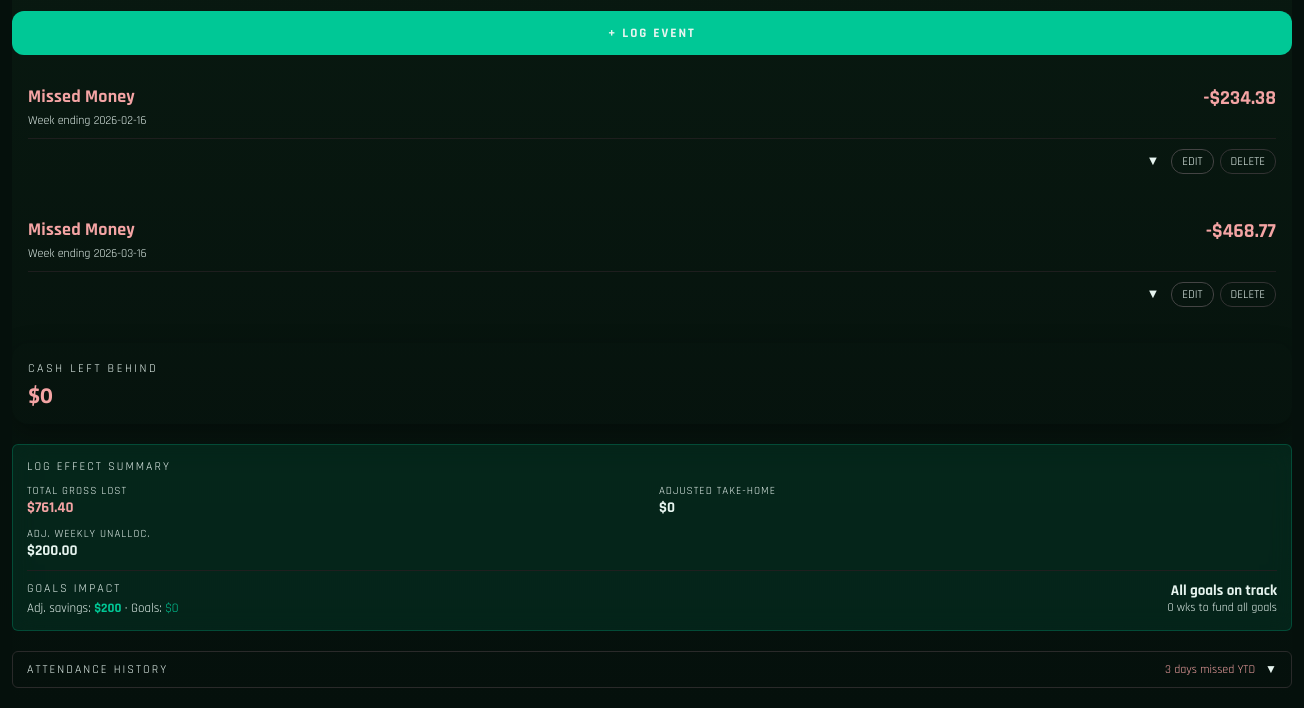
Test case: Attendance History — monthly breakdown › renders separate rows for events in different months
(page scrolled)
Step 1. Click the button "Attendance History 3 days missed YTD ▼" → click(98, 669), box [12,651,1292,688]
(page scrolled)
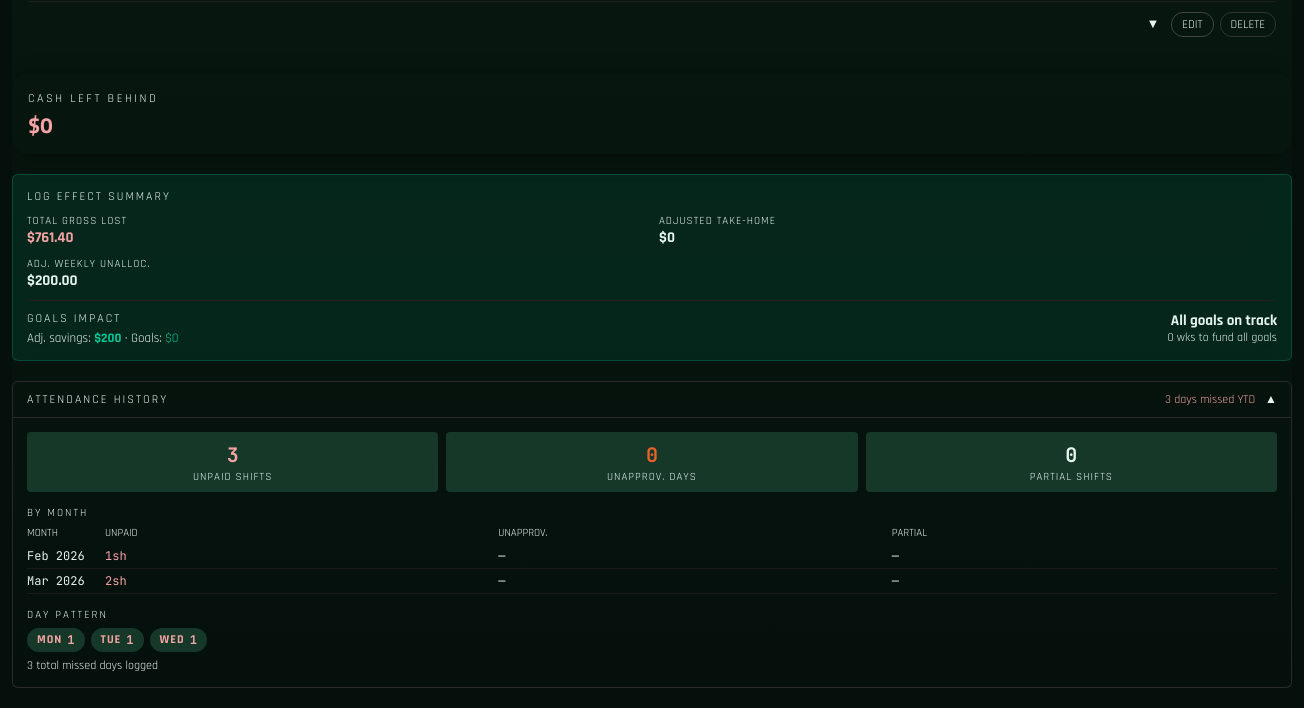
Expected: the text "Feb 2026" is shown, [27,548,85,564]
Expected: the text "Mar 2026" is shown, [27,573,85,589]
